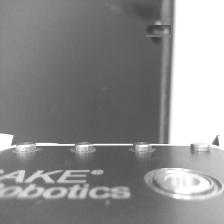Lock: (149, 21, 168, 41)
